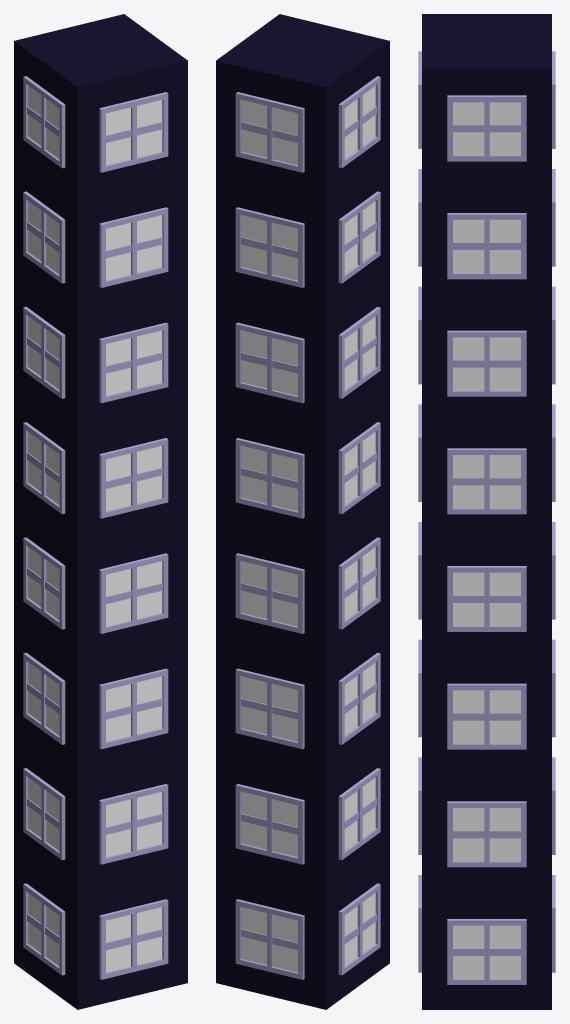
File: Building.fbx
3 renders of one model, left to right at view 1: azimuth 30°, elevation 25°; view 2: azimuth 150°, elevation 25°; view 3: azimuth 270°, elevation 25°, orthographic. The views are drawn at different scales.
Parts seen in each view (by area): view 1: mergedBlocks; view 2: mergedBlocks; view 3: mergedBlocks.
Boxes of the visible parts, x1,y1,x2,y2 form: mergedBlocks: (14,14,187,1009); mergedBlocks: (216,14,389,1009); mergedBlocks: (418,14,555,1009).
Size of the model in its own units: 10.6 by 80 by 10.6.
